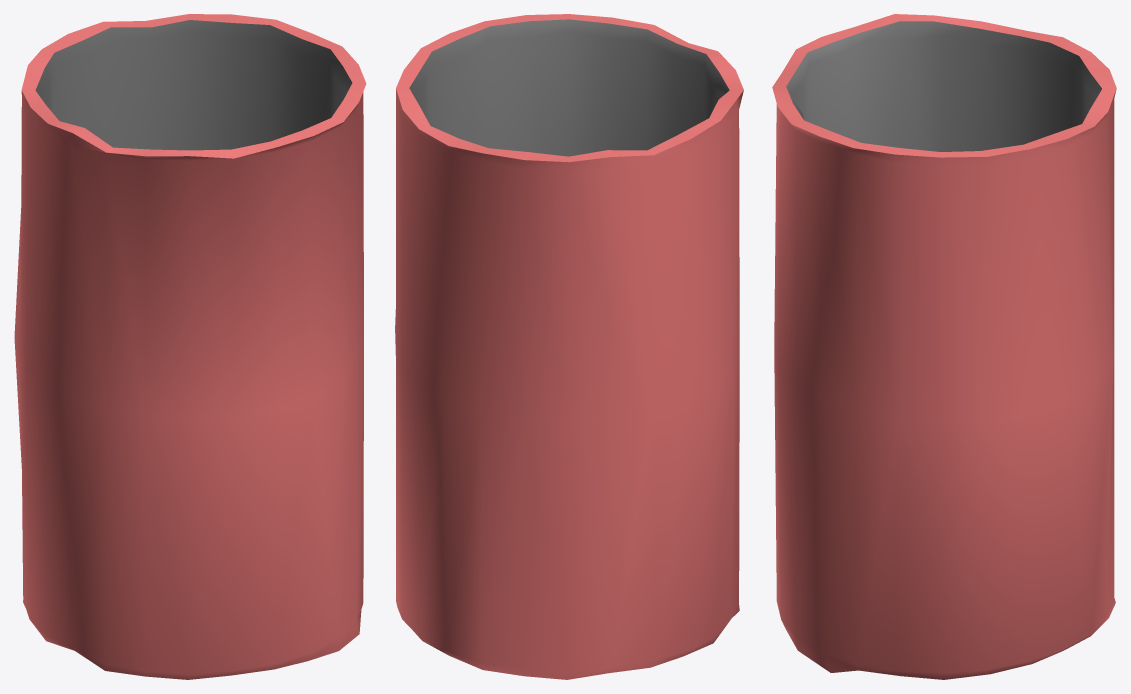
Rendered from rollomasredondo.fbx.
3 views of the same model, side by side, from view 1: azimuth 30°, elevation 25°; view 2: azimuth 150°, elevation 25°; view 3: azimuth 270°, elevation 25° (orthographic).
Parts seen in each view (by area): view 1: Cylinder001; view 2: Cylinder001; view 3: Cylinder001.
Part boxes in pixels (bbox=[...]): Cylinder001: bbox=[14, 14, 366, 679]; Cylinder001: bbox=[395, 14, 743, 679]; Cylinder001: bbox=[772, 14, 1116, 679].
Bounding box in the file's own units: 97.61 × 168 × 97.6.
